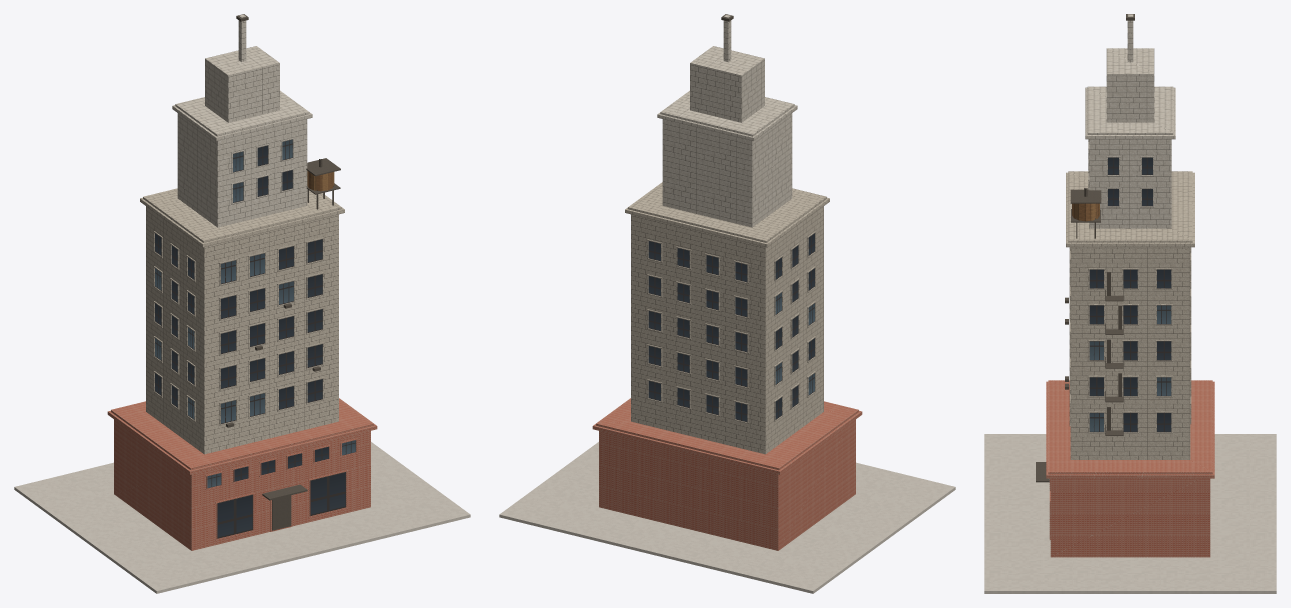
The model's file is lispenard.gltf.
3 renders of one model, left to right at view 1: azimuth 30°, elevation 25°; view 2: azimuth 150°, elevation 25°; view 3: azimuth 270°, elevation 25°, orthographic. The views are drawn at different scales.
Parts seen in each view (by area): view 1: LispenardTower; view 2: LispenardTower; view 3: LispenardTower.
Part boxes in pixels (x1,y1,x2,y2): LispenardTower: (14,14,470,593); LispenardTower: (499,14,955,593); LispenardTower: (984,14,1276,593).
Bounding box in the file's own units: 28 × 41.54 × 22.
8 materials, 8 textured.
